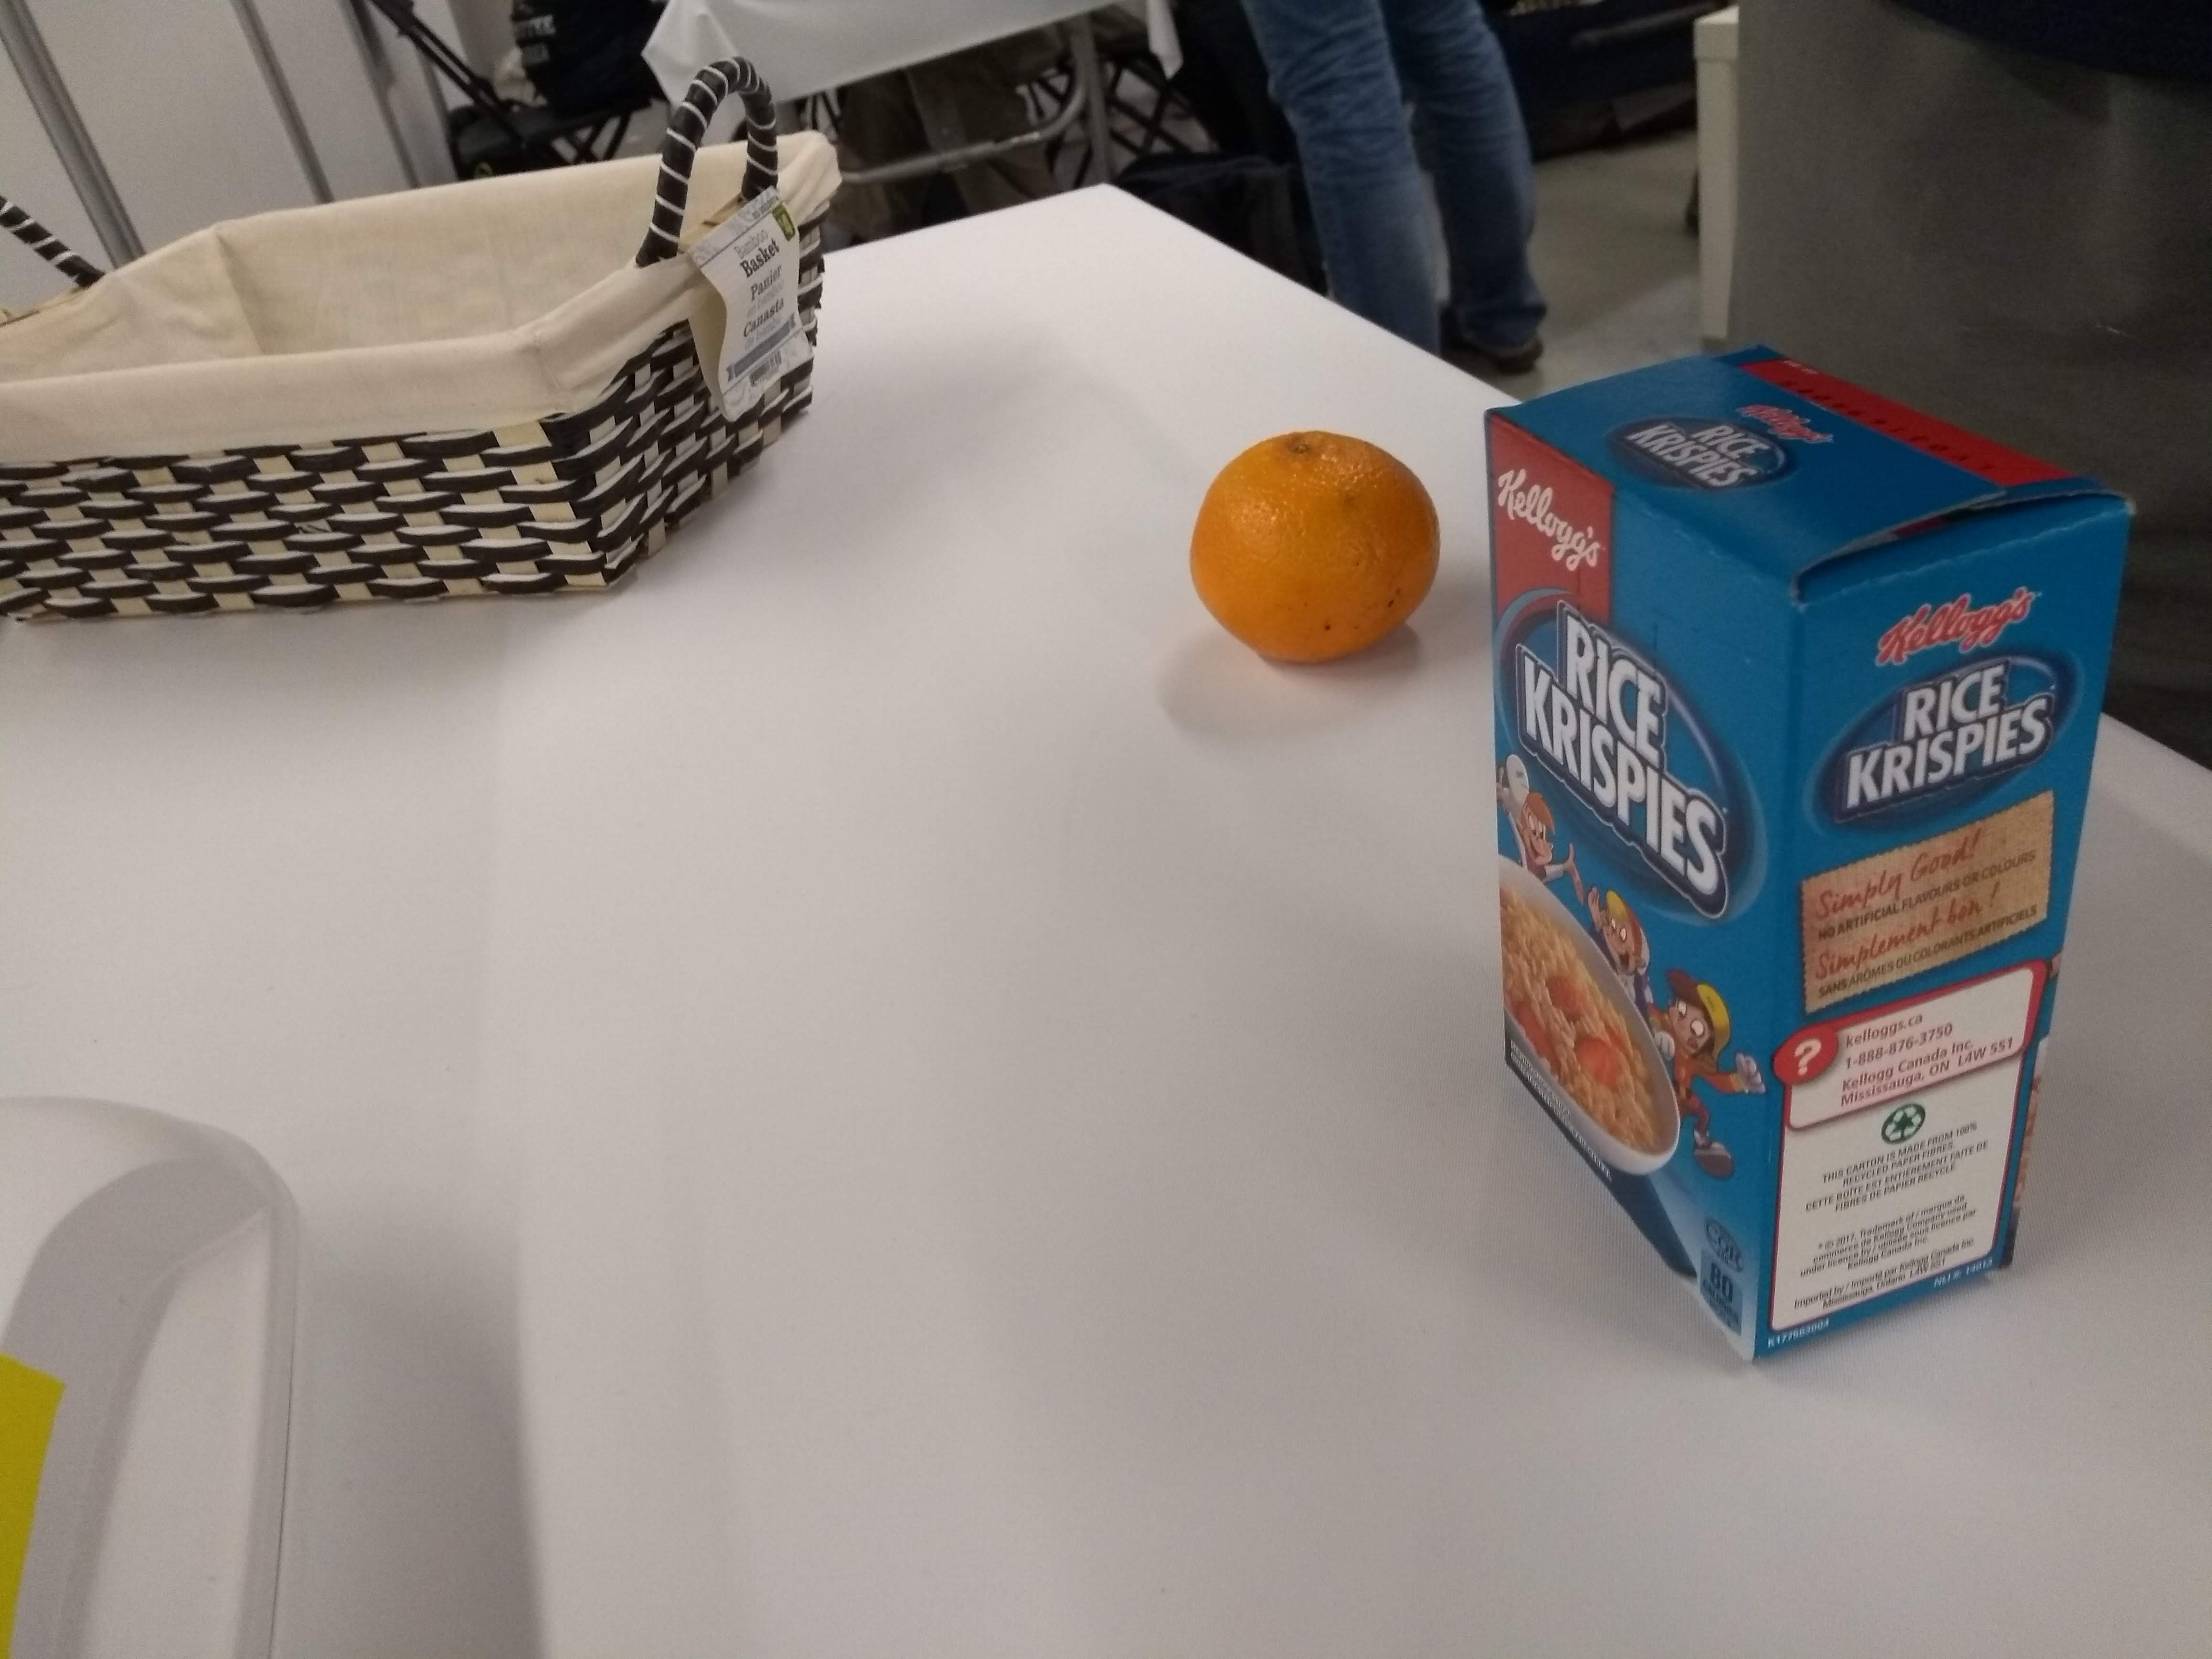basket: (0, 42, 852, 634)
cereal: (1461, 329, 2149, 1385)
orange: (1179, 416, 1447, 676)
